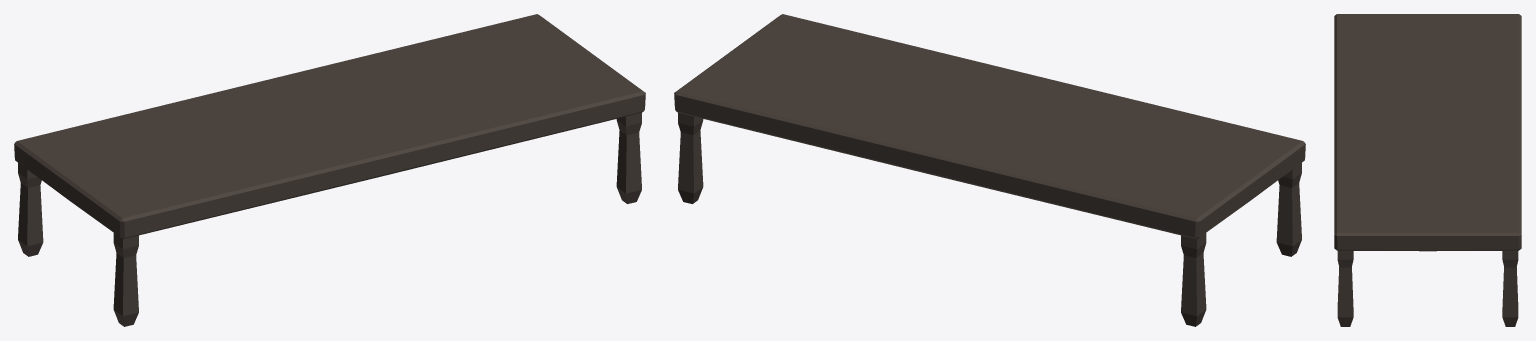
The model's file is DiningTable.obj.
3 views of the same model, side by side, from view 1: azimuth 30°, elevation 25°; view 2: azimuth 150°, elevation 25°; view 3: azimuth 270°, elevation 25° (orthographic). The views are drawn at different scales.
Parts seen in each view (by area): view 1: Desk_Cube.001; view 2: Desk_Cube.001; view 3: Desk_Cube.001.
Part boxes in pixels (<box>): Desk_Cube.001: <box>14,14,645,326</box>; Desk_Cube.001: <box>674,14,1305,326</box>; Desk_Cube.001: <box>1334,14,1521,326</box>.
Size of the model in its own units: 9.74 by 1.97 by 3.49.
